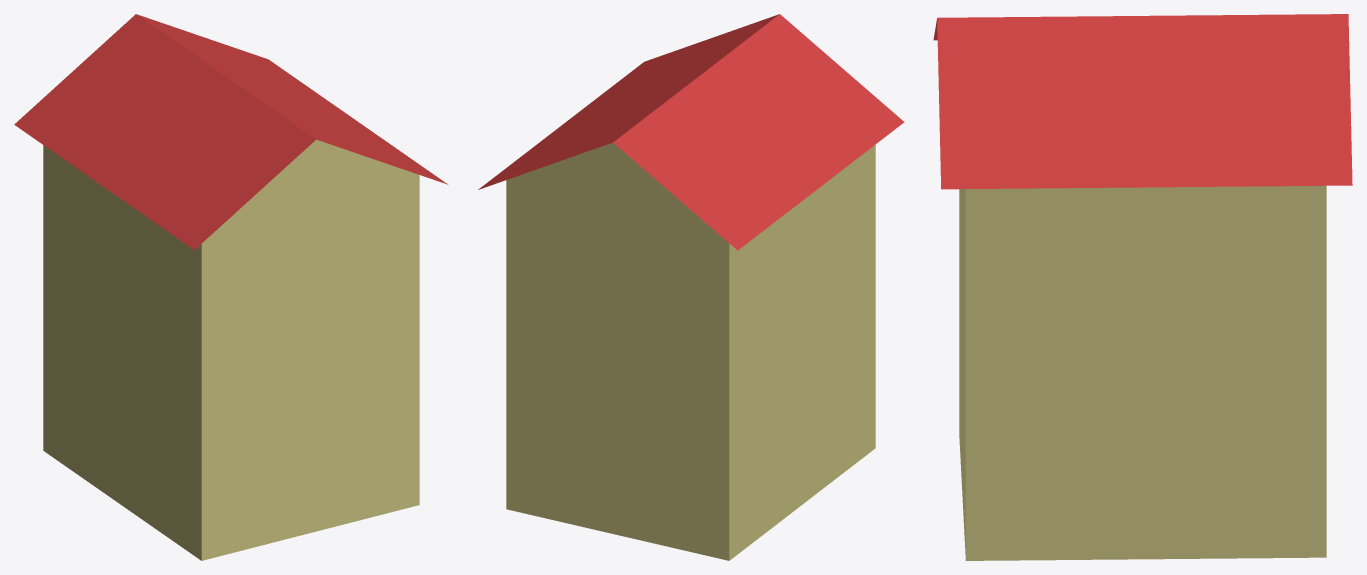
The picture shows the model from 3 angles, left to right: view 1: azimuth 30°, elevation 25°; view 2: azimuth 150°, elevation 25°; view 3: azimuth 270°, elevation 25°; orthographic projection. The views are drawn at different scales.
Size of the model in its own units: 7.16 by 8.3 by 10.42.
